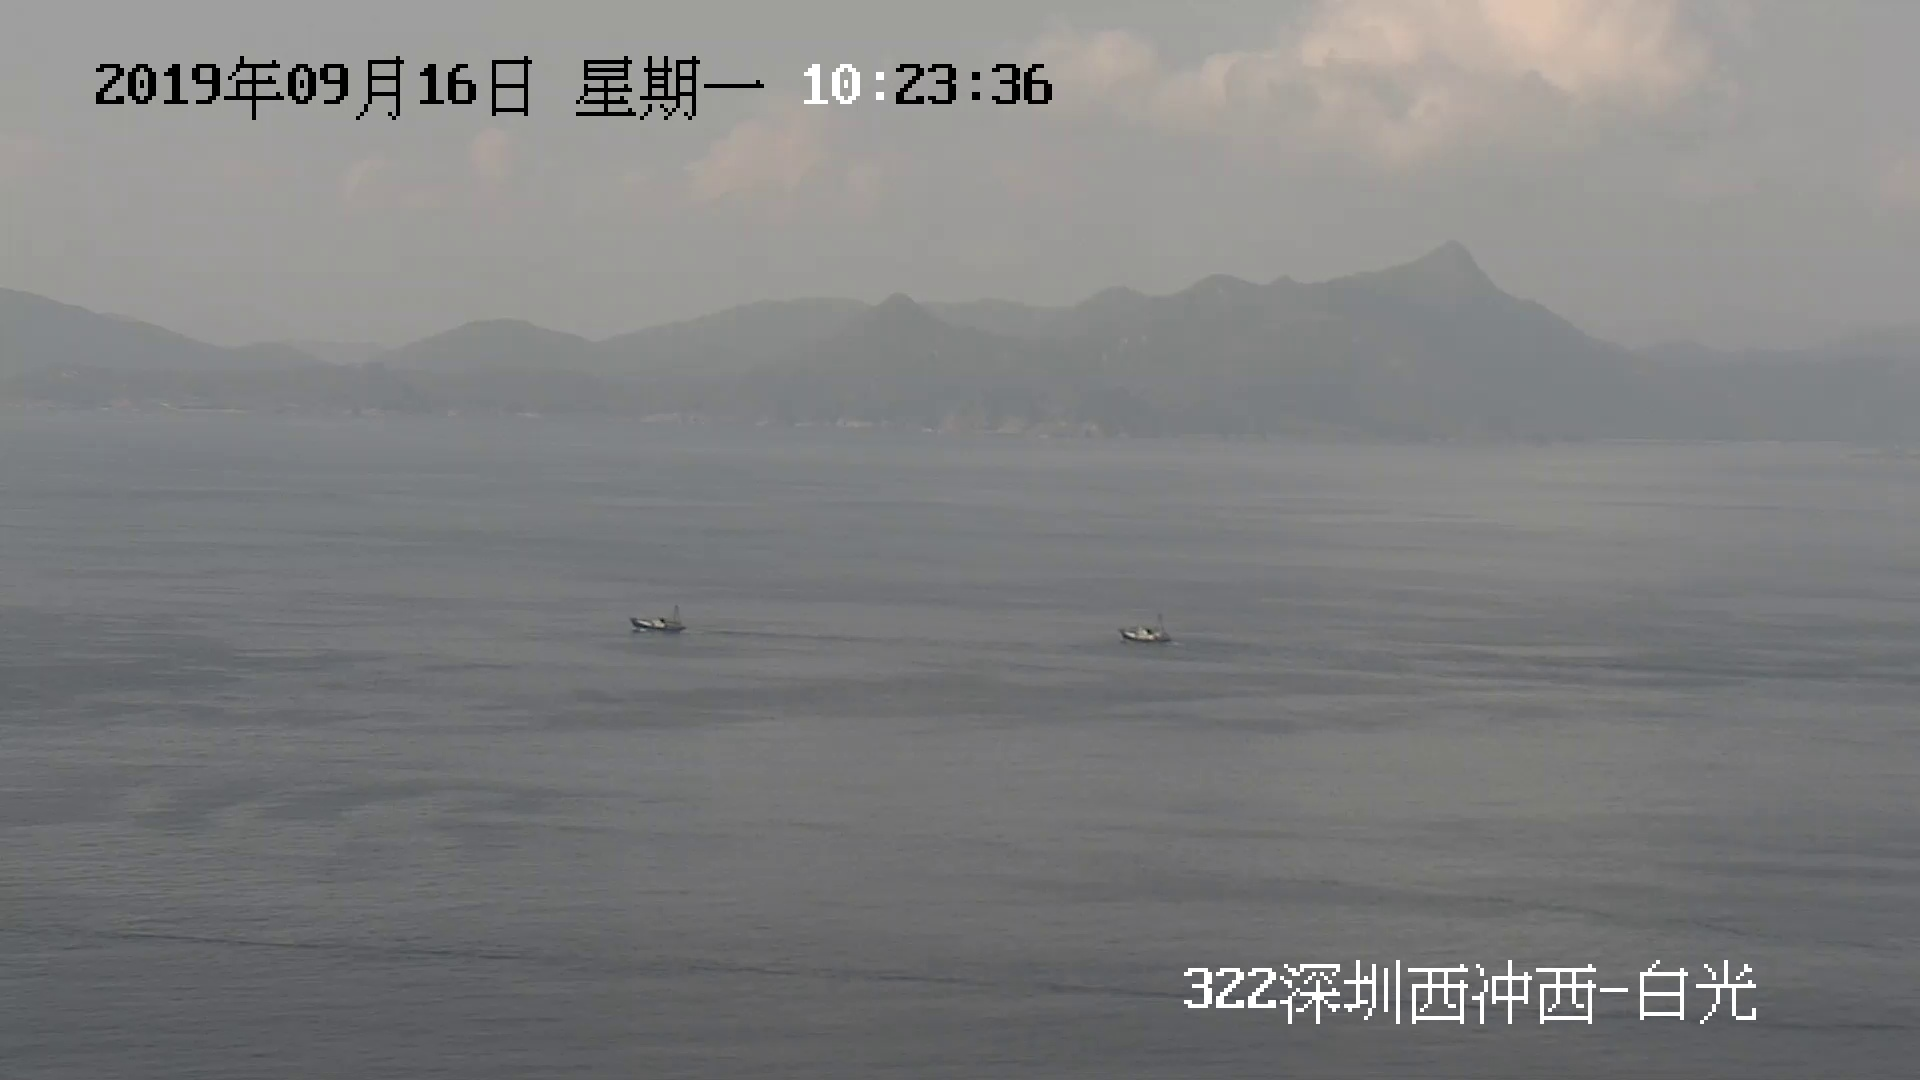ship: (629, 612, 688, 636), (1118, 624, 1174, 647)
